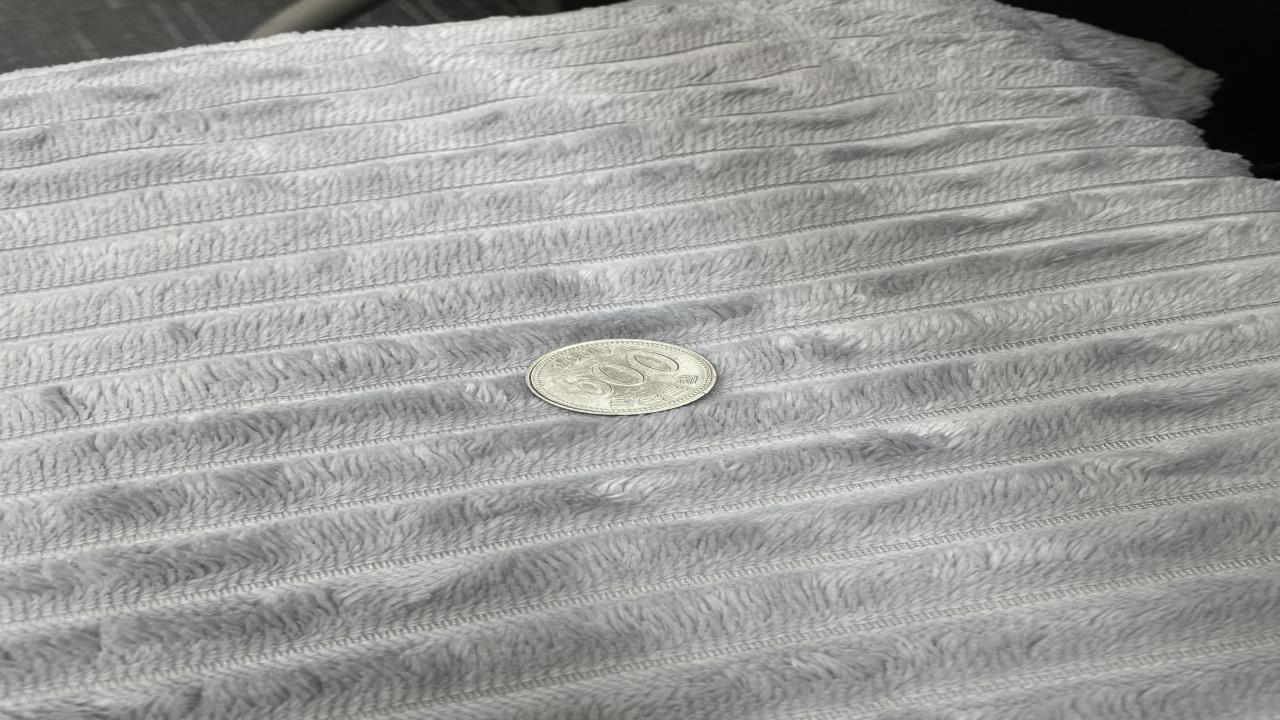coin: (521, 338, 721, 417)
